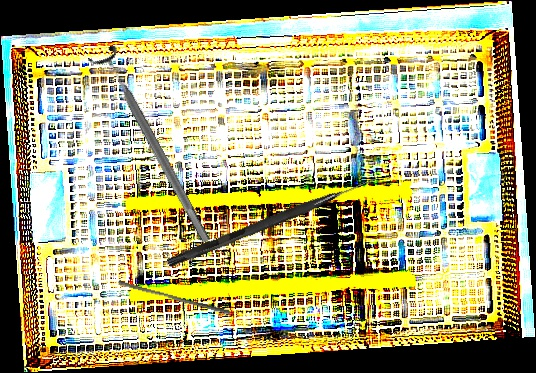Fixation Ring: (86, 43, 221, 250)
Hook Surgical: (166, 171, 378, 271)
Pusher: (116, 279, 233, 316)
